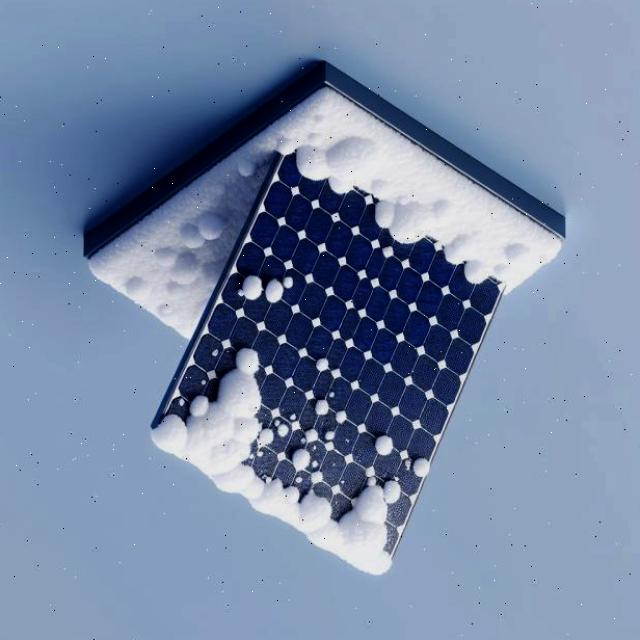Anomaly Solar Panel: (145, 136, 529, 562)
Snow: (145, 330, 447, 596), (271, 139, 519, 301), (299, 395, 352, 454), (282, 443, 330, 496), (256, 269, 299, 308), (397, 447, 434, 484), (235, 274, 263, 303), (374, 438, 392, 458)
